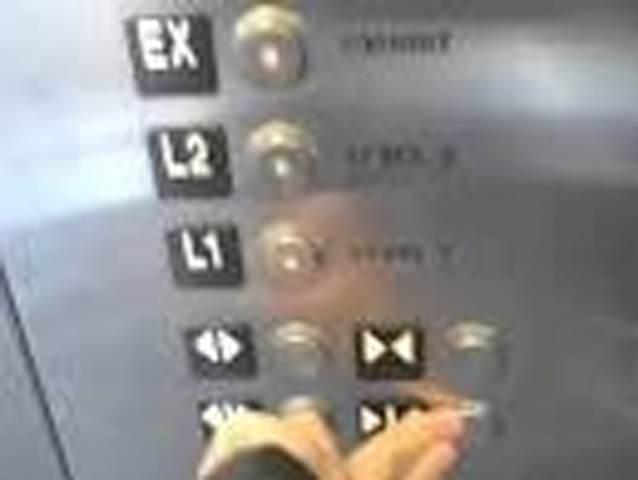EX: (118, 9, 222, 100)
L1: (161, 216, 249, 292)
L2: (143, 122, 237, 203)
close: (347, 315, 429, 383)
empty: (225, 3, 320, 98), (240, 117, 324, 201), (250, 212, 334, 296), (266, 318, 336, 387)
open: (179, 317, 261, 385)
